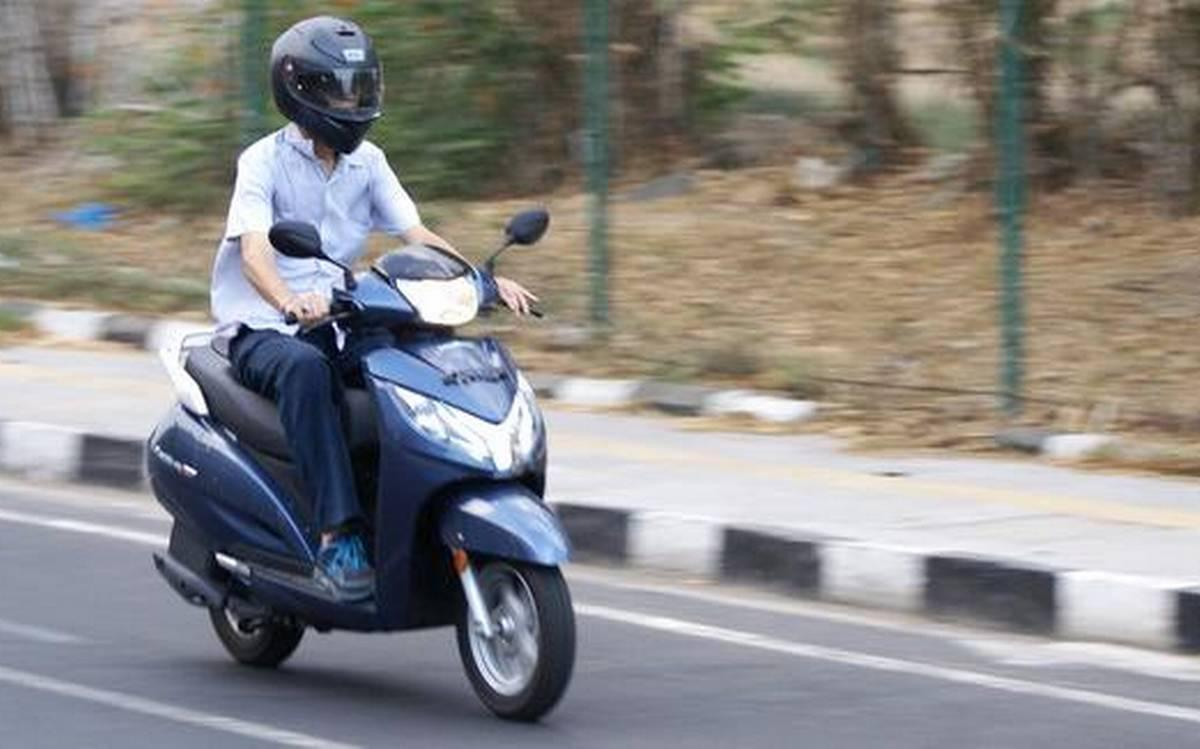helmet: (269, 14, 387, 156)
